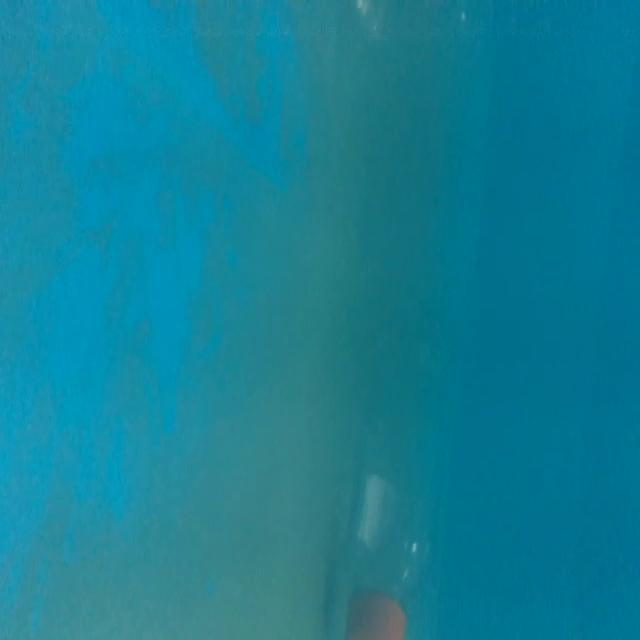plastic bottle: (335, 305, 449, 640)
